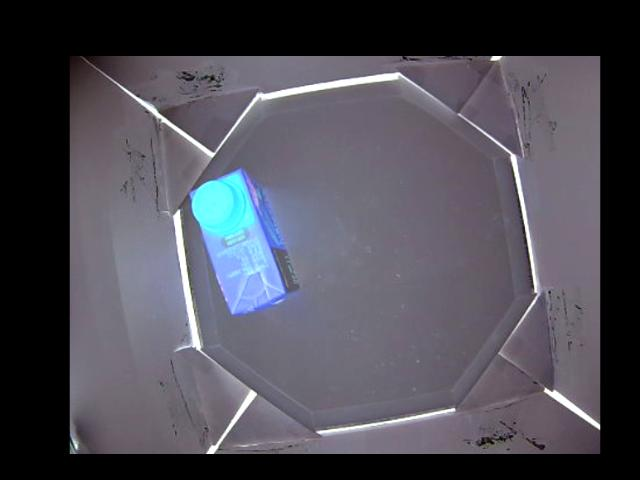Bottle: (187, 167, 300, 319)
